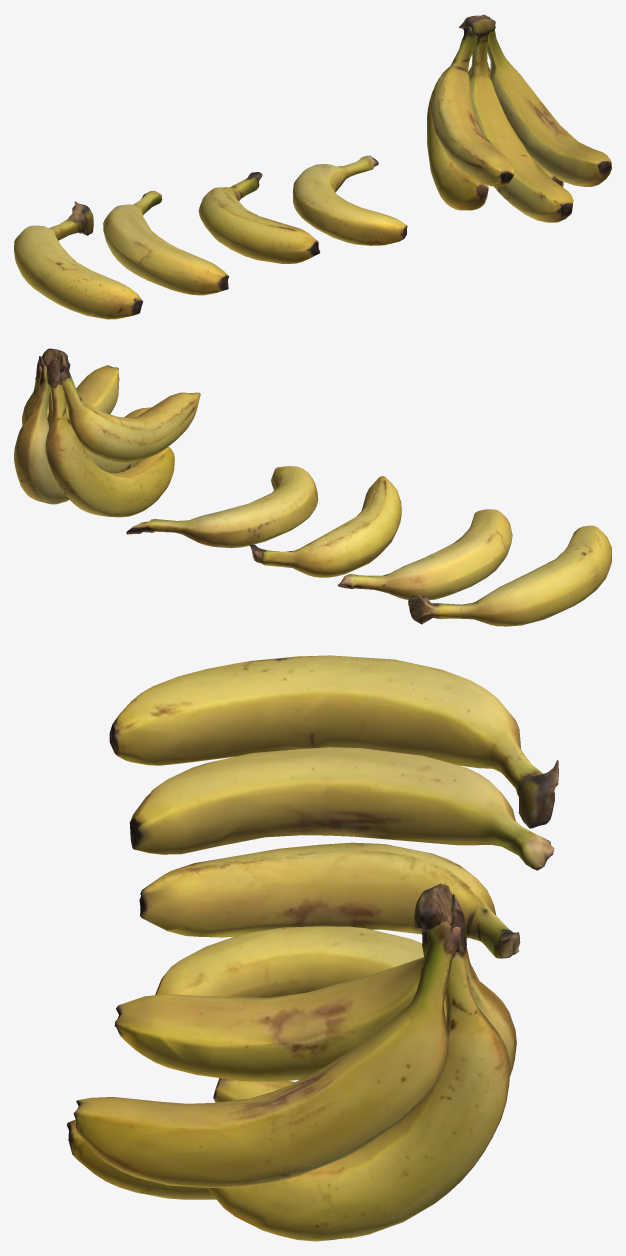
File: bananas.glb
The picture shows the model from 3 angles, top to bottom: view 1: azimuth 30°, elevation 25°; view 2: azimuth 150°, elevation 25°; view 3: azimuth 270°, elevation 25°; orthographic projection. The views are drawn at different scales.
Visible parts, largest first — view 1: bananas_bunch; view 2: bananas_bunch; view 3: bananas_bunch.
Part boxes in pixels (x1,y1,x2,y2): bananas_bunch: [14, 14, 611, 319]; bananas_bunch: [14, 348, 611, 626]; bananas_bunch: [67, 655, 558, 1241].
Bounding box in the file's own units: 0.6 × 0.1787 × 0.2438.
1 material, 1 textured.
